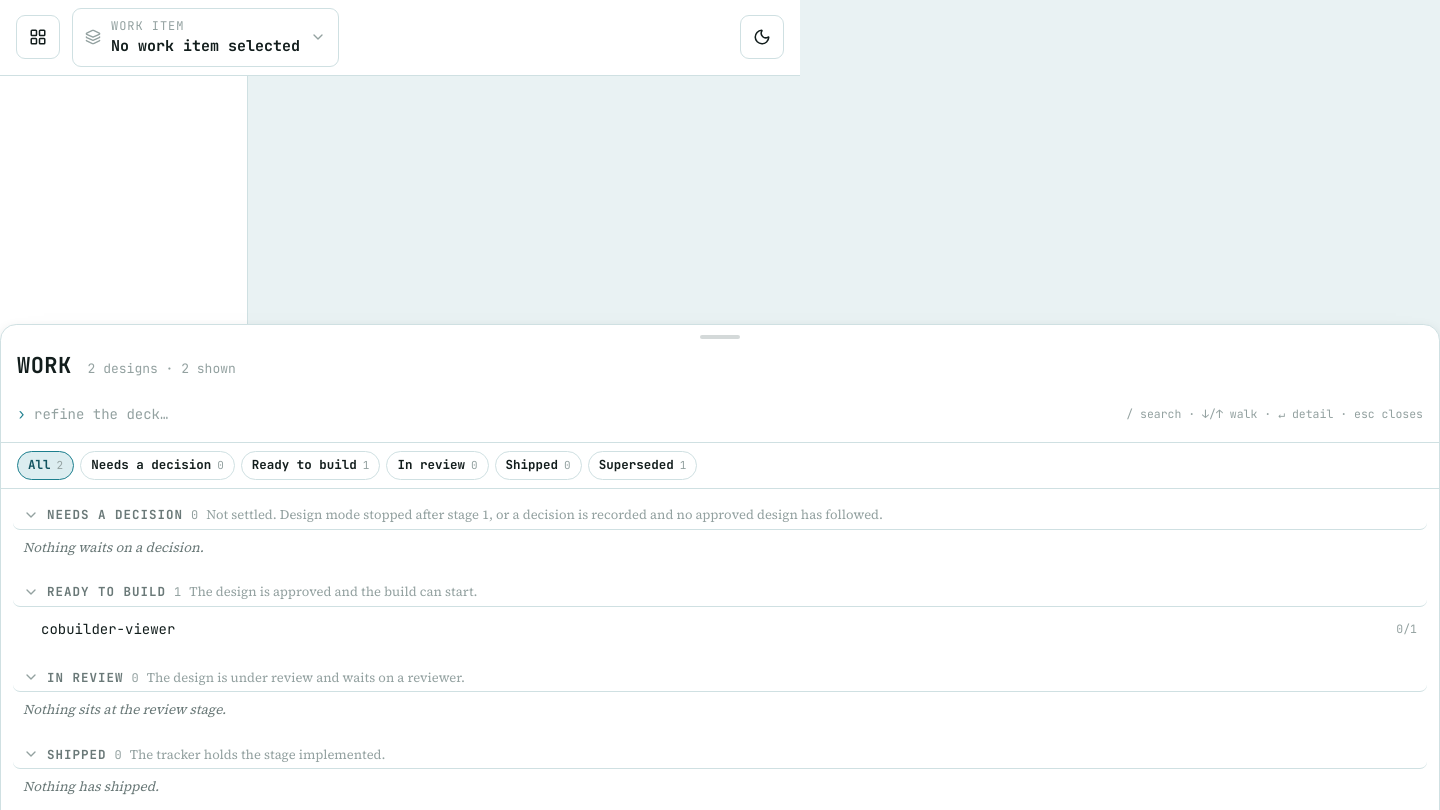
Test: Shell › opens a work item's surface through the drawer itself
Type "inflight" into the field named "Search the work items". click: (576, 414)
box: [34,396,1118,432]
(page scrolled)
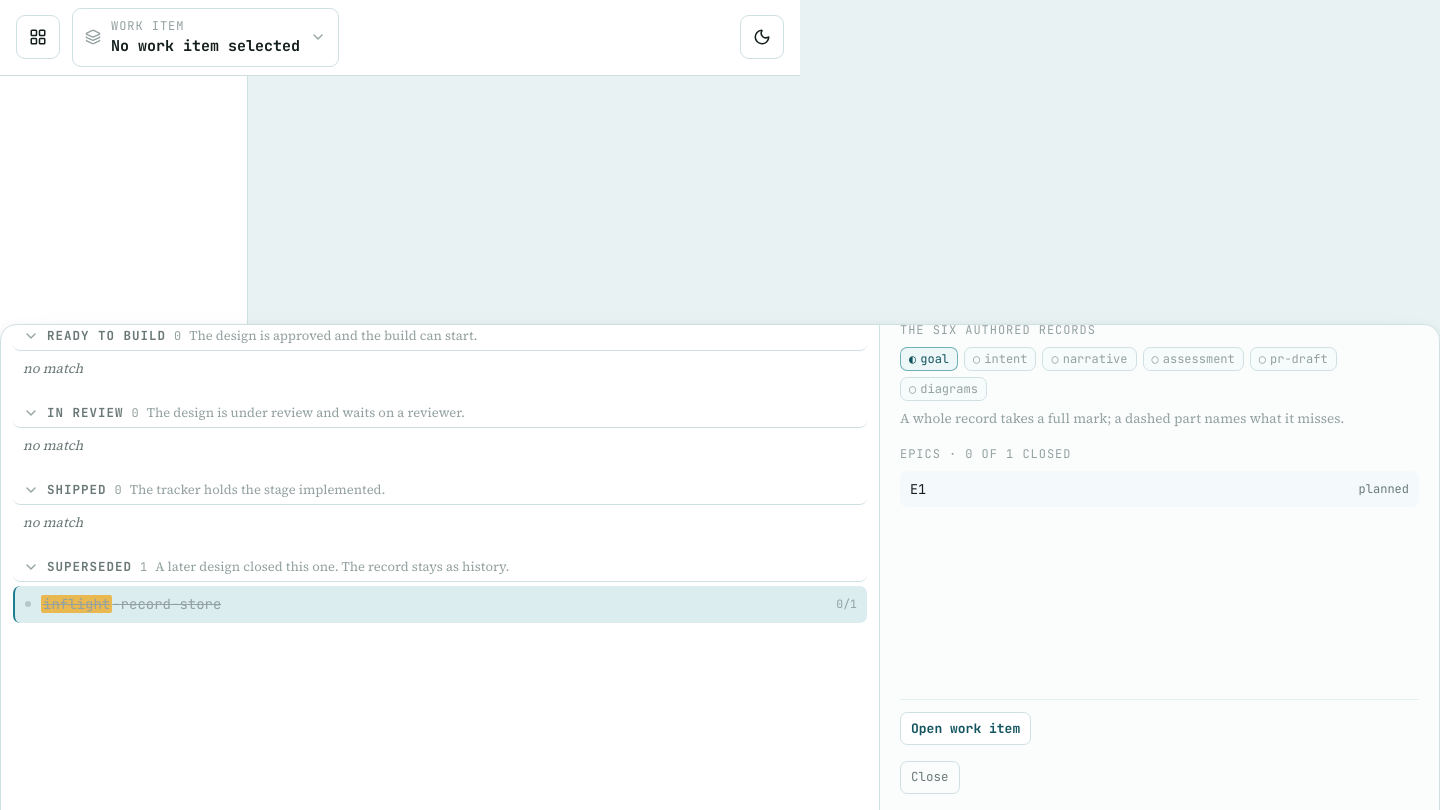
Click the link with aria-label "Open work item: inflight-record-store". click: (966, 729)
box: [900,712,1031,745]
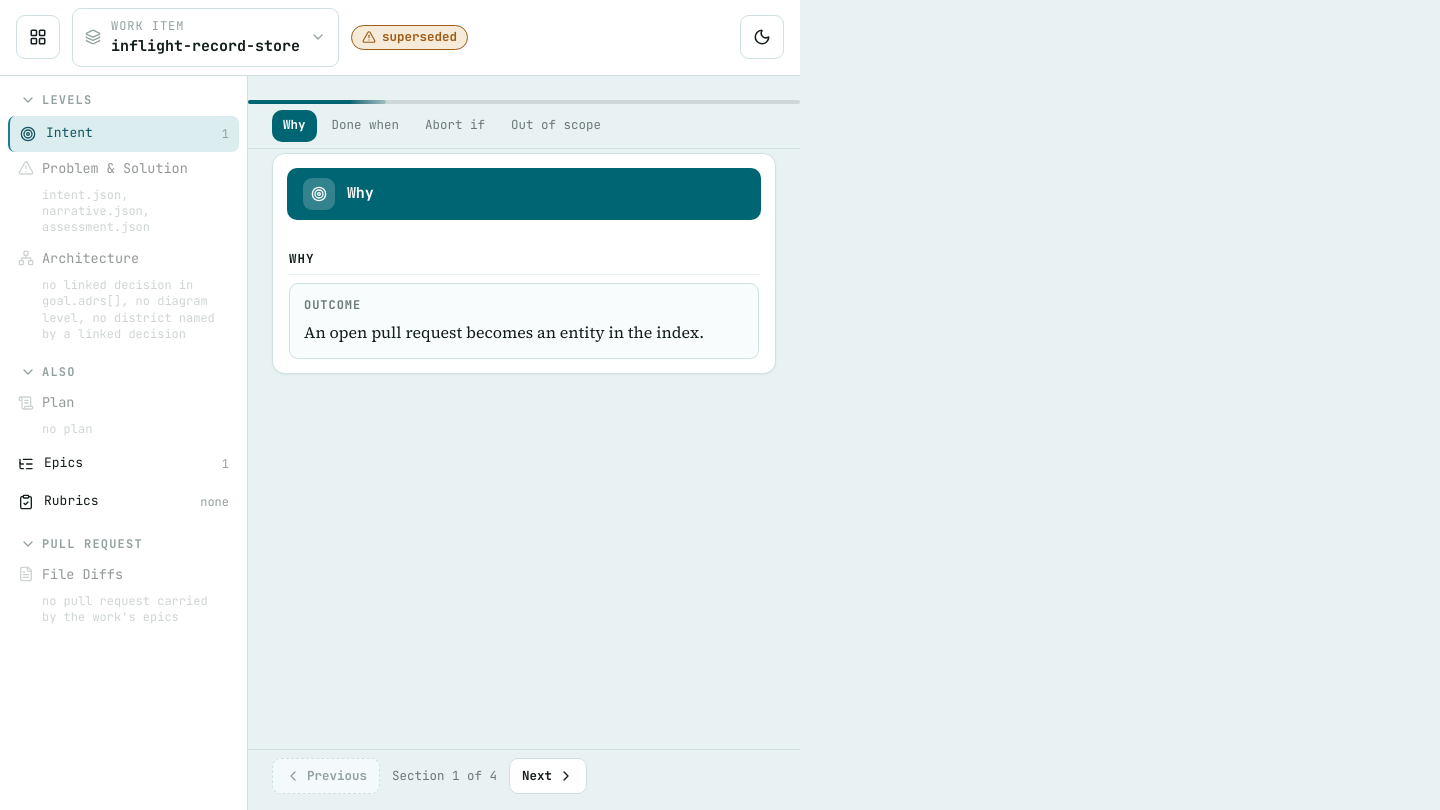
Result: the text "Intent" is shown at [46,124,93,141]
Result: the text with id "work-item-name" reads "inflight-record-store" at [111,36,300,56]
